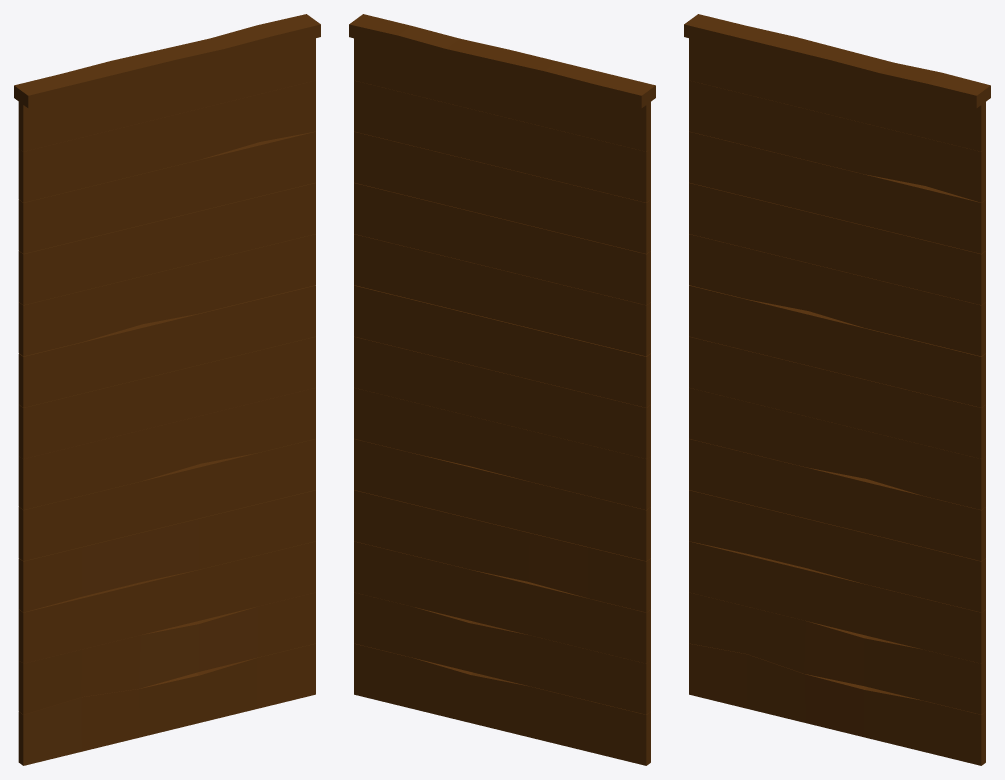
The model's file is WallInside1.fbx.
3 views of the same model, side by side, from view 1: azimuth 30°, elevation 25°; view 2: azimuth 150°, elevation 25°; view 3: azimuth 330°, elevation 25° (orthographic).
Visible parts, largest first — view 1: Cube.011; view 2: Cube.011; view 3: Cube.011.
Boxes of the visible parts, x1,y1,x2,y2 form: Cube.011: (14, 14, 320, 765); Cube.011: (349, 14, 655, 765); Cube.011: (684, 14, 990, 765).
Size of the model in its own units: 100 by 220 by 8.42.
